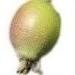fruit: (9, 0, 60, 72)
